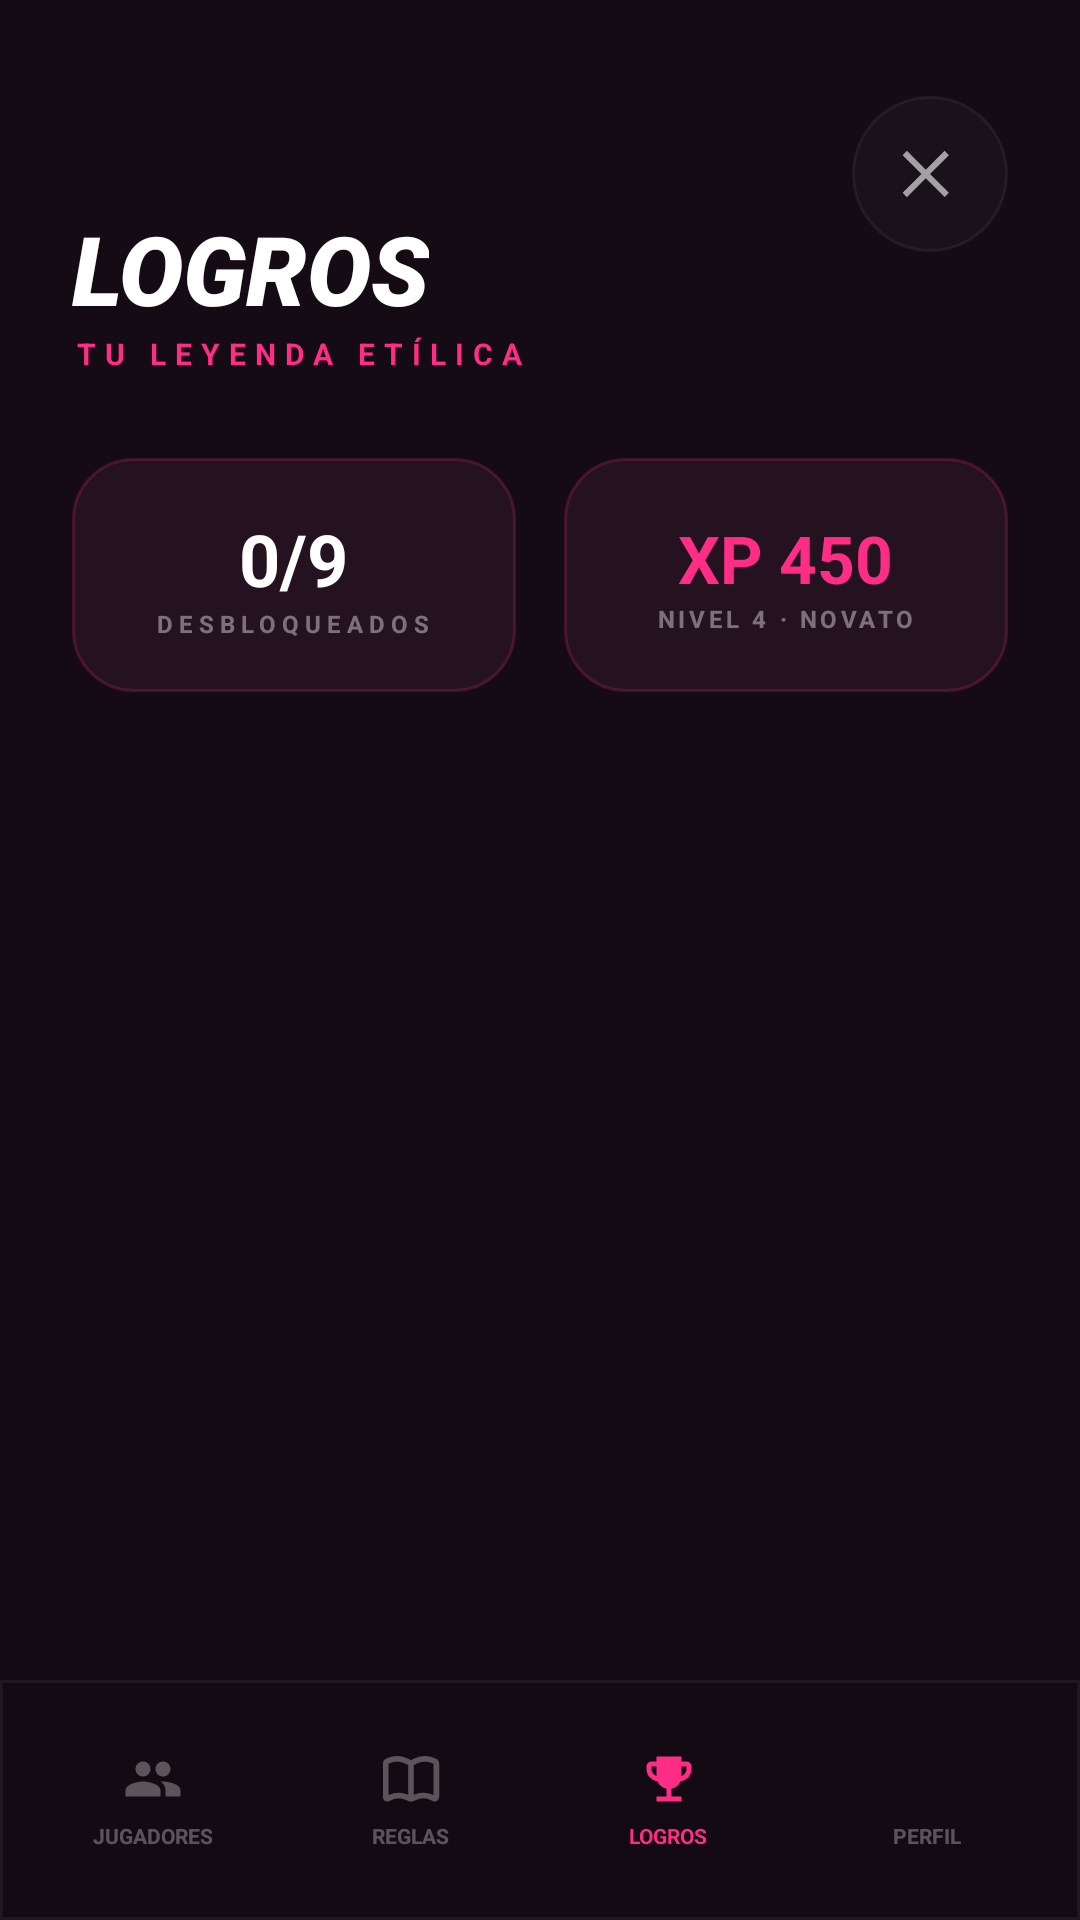

Named icons in this screenshot (1080px×1920px) and their bounding boxes, (x1, y1, x2, y2):
Cerrar: (902, 151, 949, 197)
